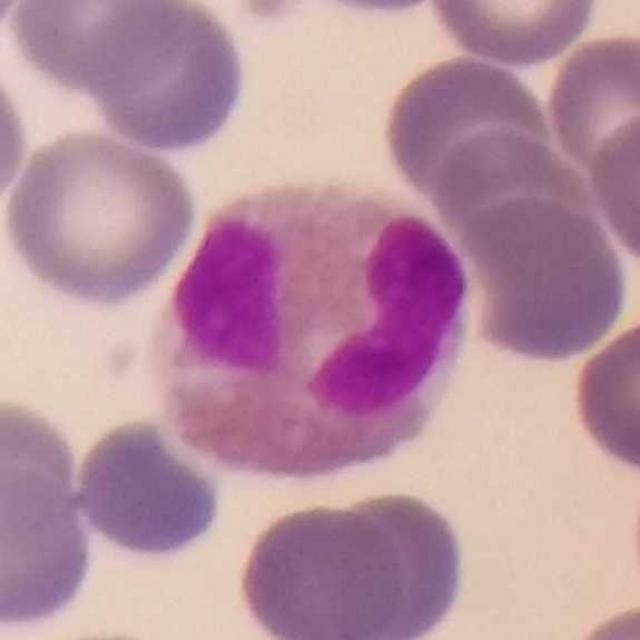eosino: (150, 182, 469, 479)
